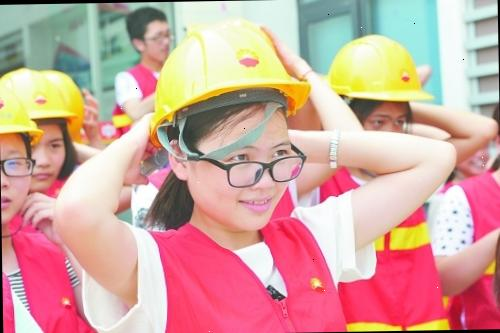helmet: (146, 20, 324, 153), (326, 31, 436, 108), (0, 61, 76, 120), (0, 83, 40, 144)
